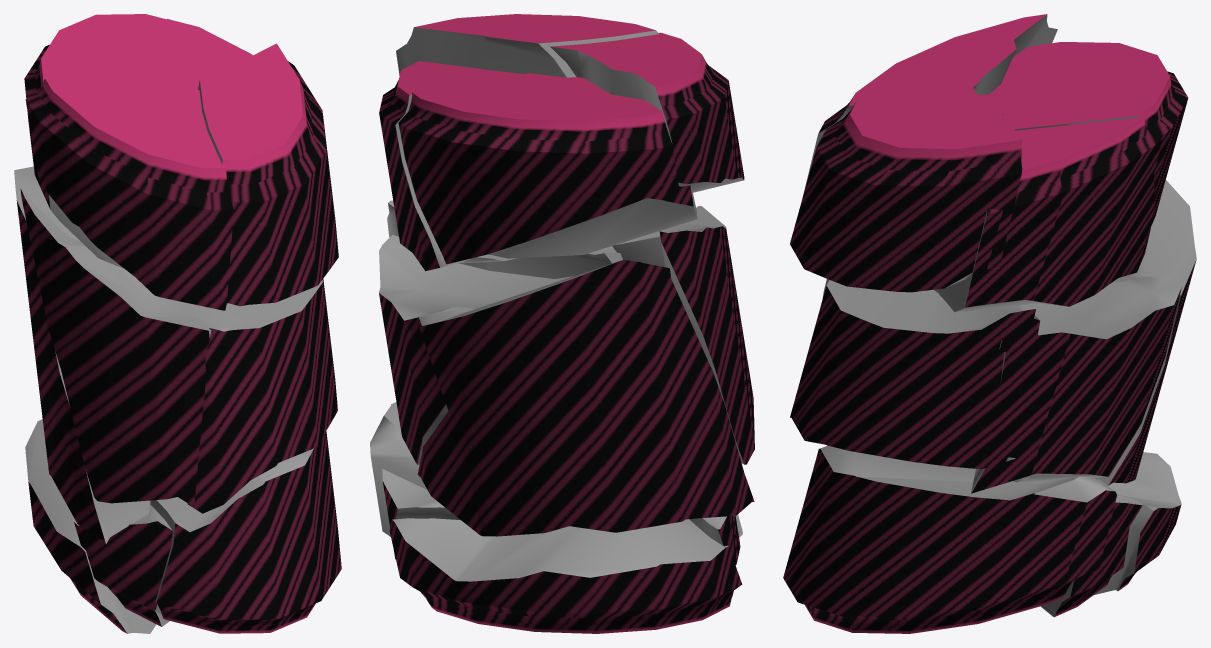
The model's file is ExplodeyBarrellFractured.FBX.
3 renders of one model, left to right at view 1: azimuth 30°, elevation 25°; view 2: azimuth 150°, elevation 25°; view 3: azimuth 270°, elevation 25°, orthographic. The views are drawn at different scales.
Visible parts, largest first — view 1: Plane009, Plane007, Plane010, Plane006, Plane008, Plane015, Plane013, Plane011, Plane005, Plane016; view 2: Plane013, Plane015, Plane011, Plane009, Plane014, Plane007, Plane010, Plane016, Plane006, Plane008, Plane012, Plane005; view 3: Plane006, Plane010, Plane008, Plane016, Plane014, Plane015, Plane009, Plane013, Plane011, Plane012.
Boxes of the visible parts, box(x1,y1,x2,y2) form: Plane009: box(25, 78, 233, 310); Plane007: box(20, 188, 211, 506); Plane010: box(198, 43, 338, 306); Plane006: box(150, 431, 341, 633); Plane008: box(180, 279, 337, 513); Plane015: box(24, 14, 199, 268); Plane013: box(14, 166, 150, 543); Plane011: box(25, 419, 156, 633); Plane005: box(74, 504, 172, 626); Plane016: box(167, 19, 252, 80); Plane013: box(417, 260, 754, 536); Plane015: box(398, 73, 697, 264); Plane011: box(389, 518, 742, 633); Plane009: box(550, 32, 744, 192); Plane014: box(379, 235, 572, 464); Plane007: box(612, 206, 754, 464); Plane010: box(396, 14, 658, 77); Plane016: box(379, 61, 523, 271); Plane006: box(370, 402, 742, 537); Plane008: box(387, 200, 648, 278); Plane012: box(382, 469, 460, 559); Plane005: box(689, 516, 740, 564); Plane006: box(783, 445, 1116, 633); Plane010: box(790, 94, 1022, 292); Plane008: box(790, 280, 1039, 469); Plane016: box(934, 116, 1161, 312); Plane014: box(971, 276, 1181, 493); Plane015: box(989, 42, 1188, 225); Plane009: box(803, 14, 1057, 195); Plane013: box(1095, 180, 1196, 485); Plane011: box(1094, 452, 1181, 594); Plane012: box(1041, 494, 1142, 617).
Size of the model in its own units: 12.86 by 24.19 by 16.85.
Materials: 2 (1 with a texture image).
